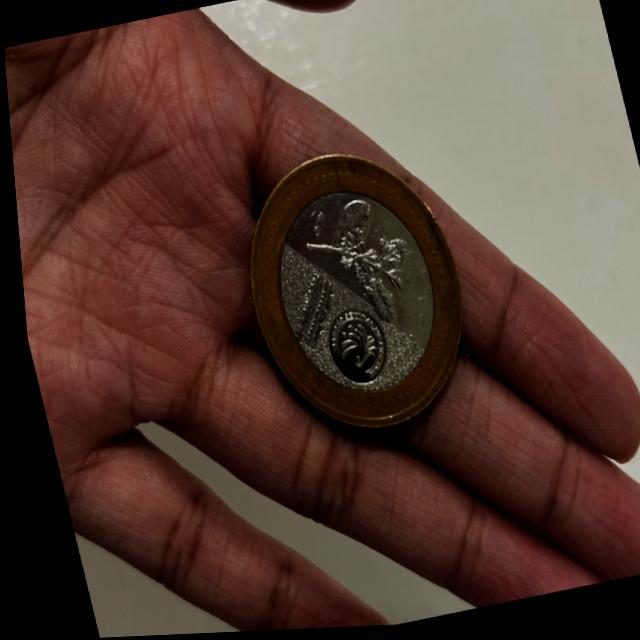20_New_Back: (288, 183, 426, 344)
